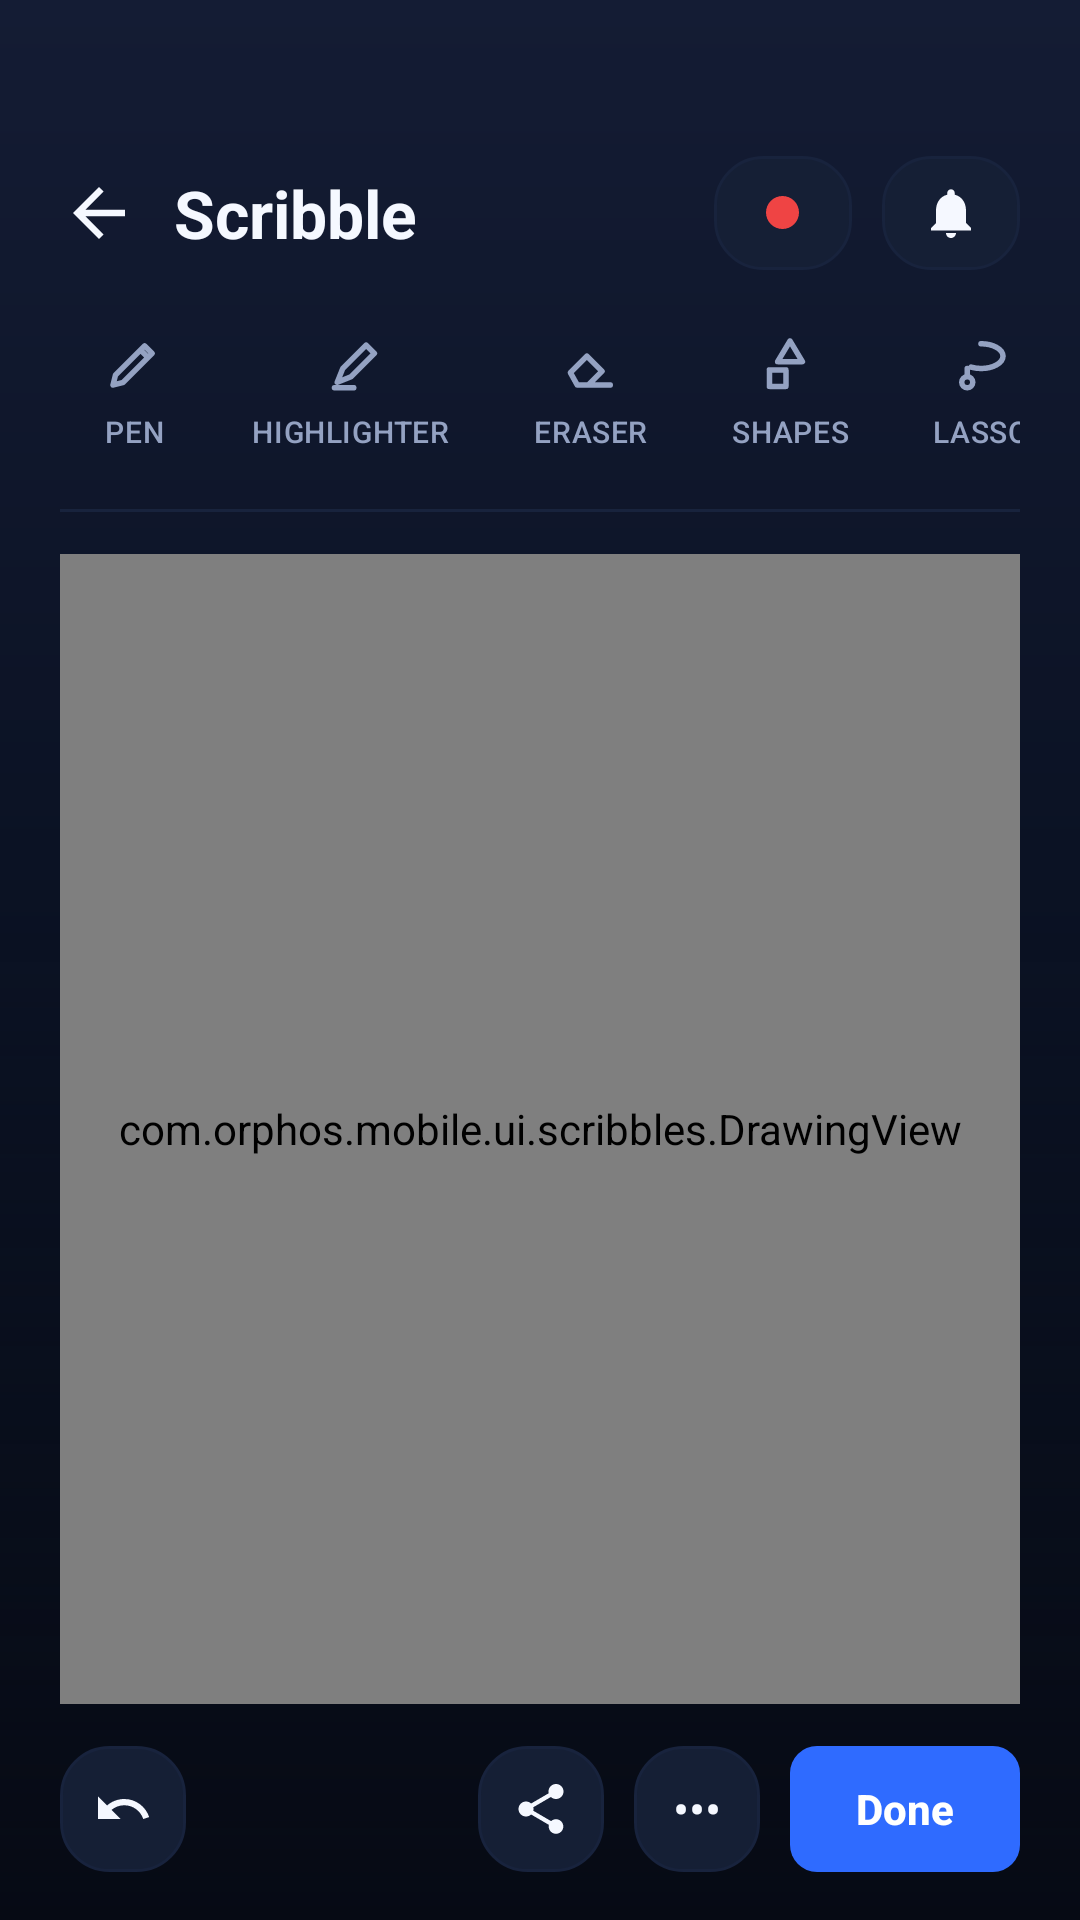

Icon bounding boxes for this 1080px x 1920px phone screenshot, format (x1,y1,x2,y2):
arrow back: (73,187,125,239)
bell: (931,189,971,238)
share: (478,1746,604,1872)
Undo: (60,1746,186,1872)
